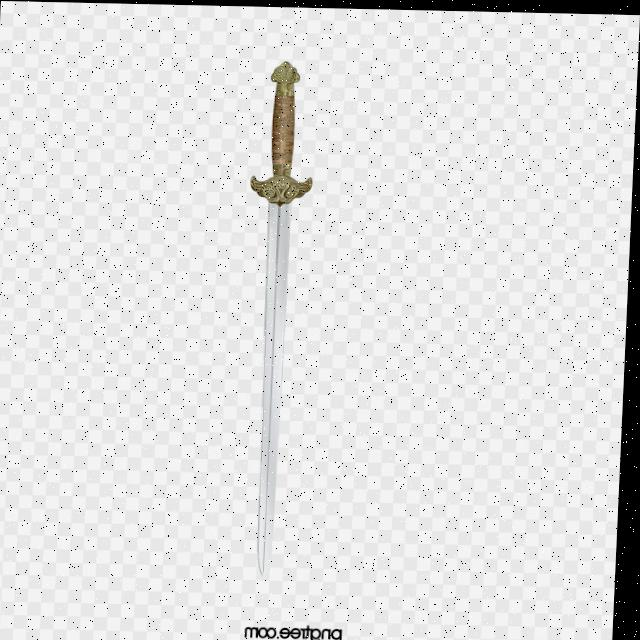knife: (232, 53, 319, 575)
